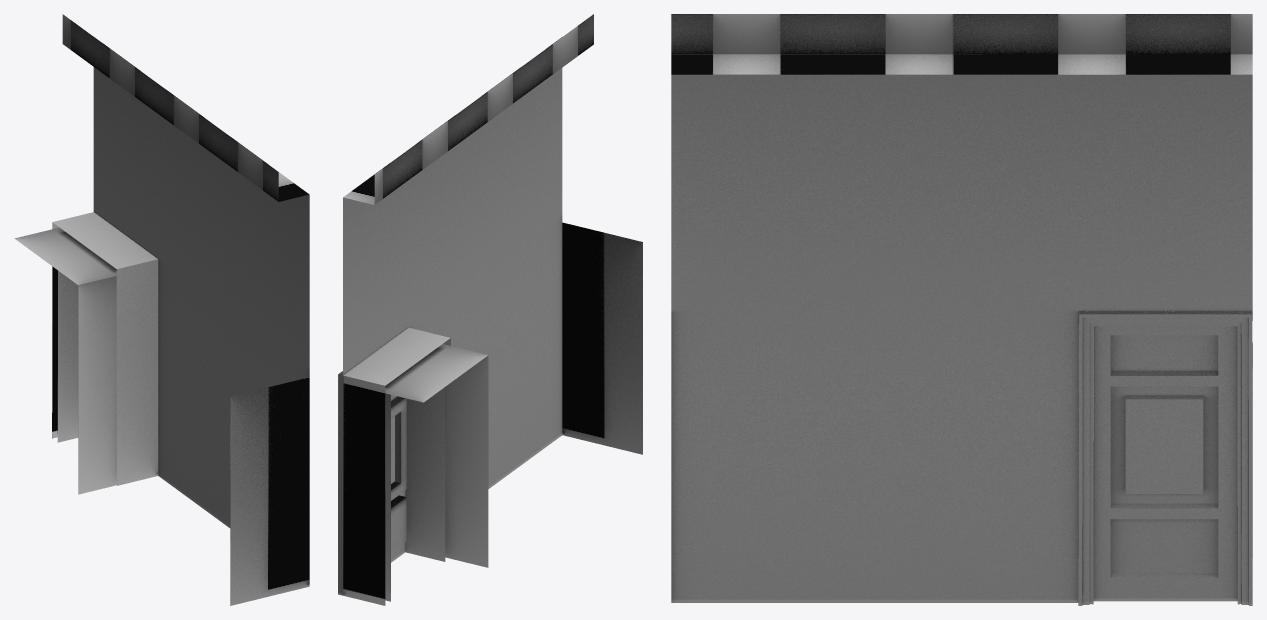
Rendered from chamber.glb.
The picture shows the model from 3 angles, left to right: view 1: azimuth 30°, elevation 25°; view 2: azimuth 150°, elevation 25°; view 3: azimuth 270°, elevation 25°; orthographic projection. The views are drawn at different scales.
Visible parts, largest first — view 1: Plane.008; view 2: Plane.008; view 3: Plane.008.
Part boxes in pixels (x1,y1,x2,y2): Plane.008: [14, 14, 309, 605]; Plane.008: [338, 14, 642, 605]; Plane.008: [671, 14, 1252, 605].
Bounding box in the file's own units: 1 × 4.8 × 4.45.
Materials: 1 (1 with a texture image).
